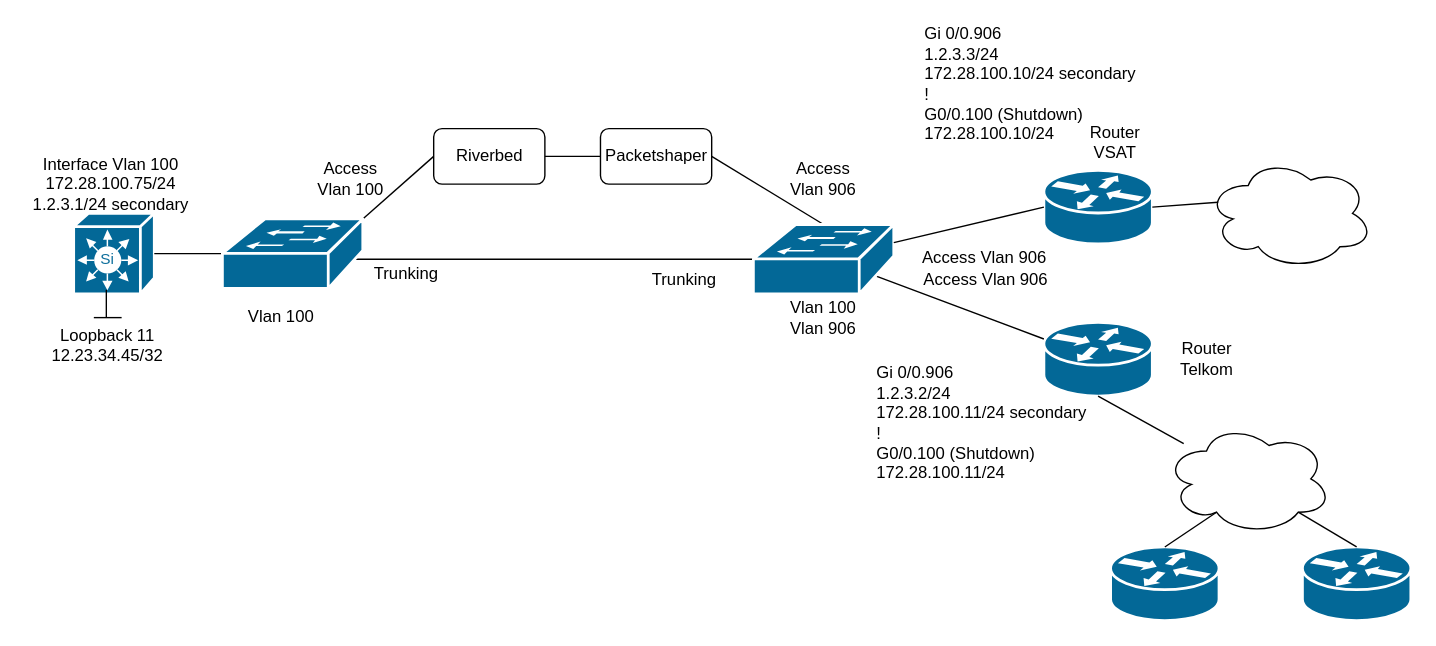
Image size: 1436x646. Some labels were removed from this diagram. Here are the shapes that lost their labels. From the top down, the centre of each, then its label:
At (x=1289, y=212): "VSAT".
At (x=1247, y=478): "MPLS".
